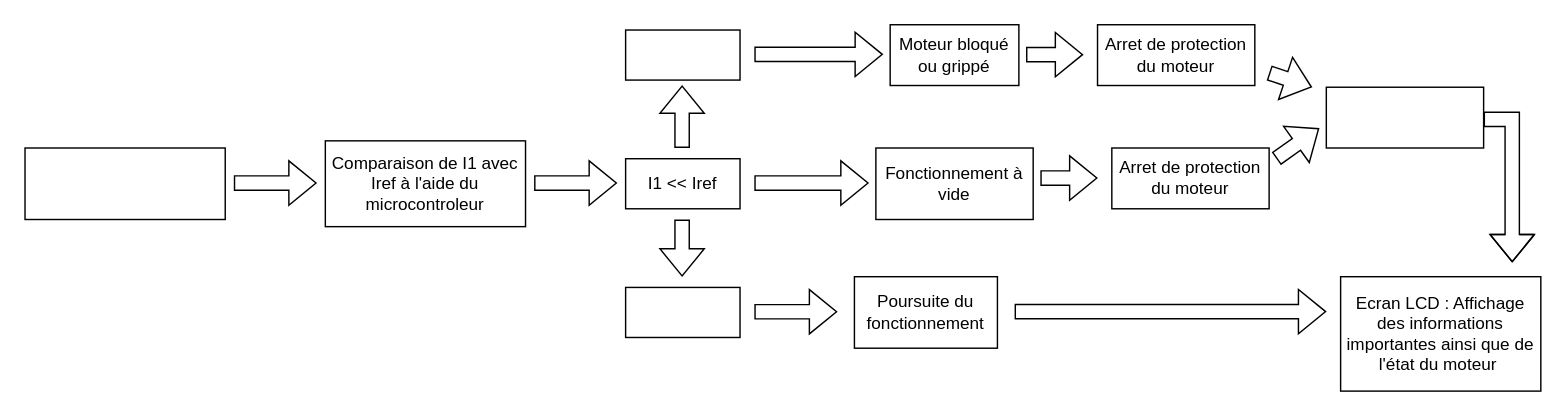
Image size: 1566x418. Some labels were removed from this diagram. Each missing label, with the box of its shape:
Déclenchement buzzer et LED: (1325, 86, 1484, 148)
I1 = Iref: (624, 286, 740, 337)
I1 >> Iref: (624, 29, 740, 80)
Mesure du courant à l'aide du capteur: (24, 147, 225, 220)
